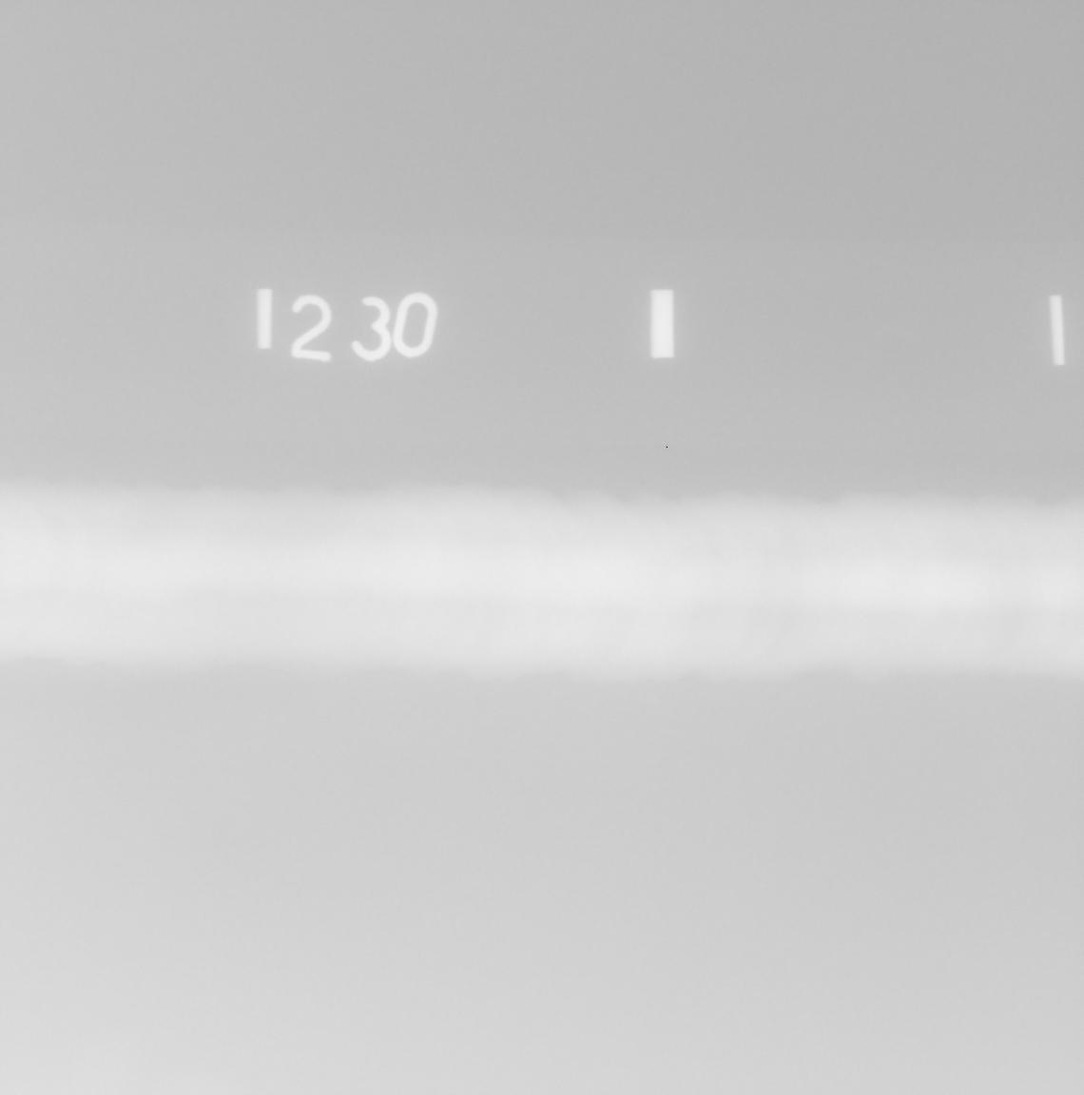Inclusion: (209, 653, 221, 676)
Pore/Porosity: (865, 615, 869, 618)
